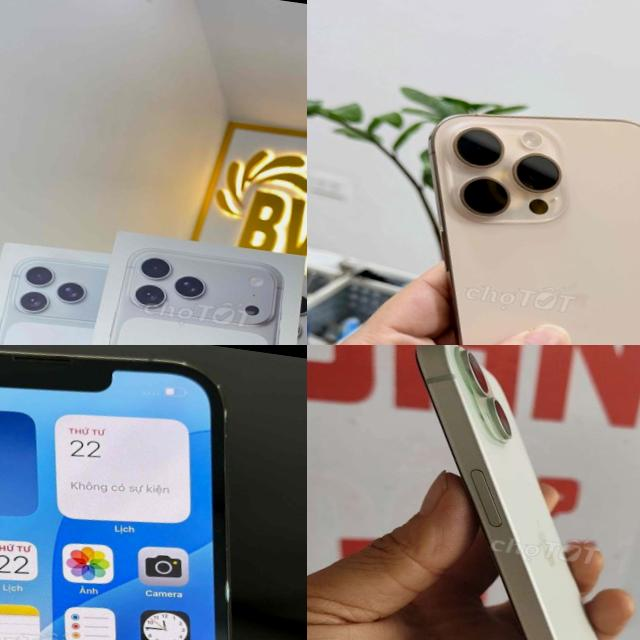gen_12_13: (0, 345, 307, 640)
gen_15: (337, 345, 640, 640)
gen_16: (430, 114, 640, 345)
gen_17: (68, 205, 307, 345)
